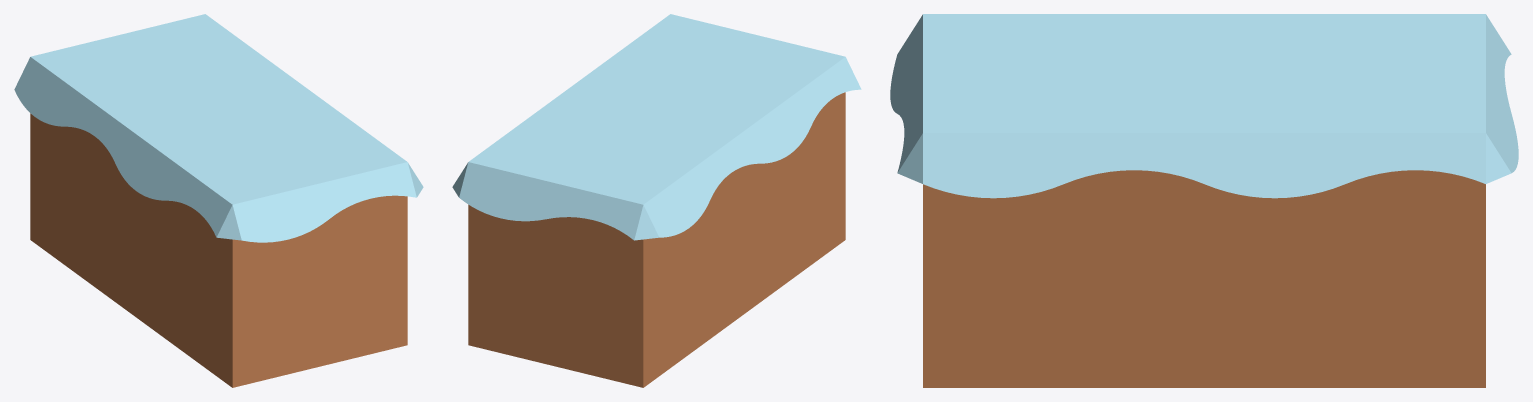
Rendered from blockSnowLong.dae.
3 views of the same model, side by side, from view 1: azimuth 30°, elevation 25°; view 2: azimuth 150°, elevation 25°; view 3: azimuth 270°, elevation 25° (orthographic). The views are drawn at different scales.
Parts seen in each view (by area): view 1: blockSnowLong; view 2: blockSnowLong; view 3: blockSnowLong.
Boxes of the visible parts, x1,y1,x2,y2 form: blockSnowLong: [14, 14, 423, 387]; blockSnowLong: [452, 14, 861, 387]; blockSnowLong: [890, 14, 1518, 387].
Size of the model in its own units: 1.23 by 1 by 2.23.
